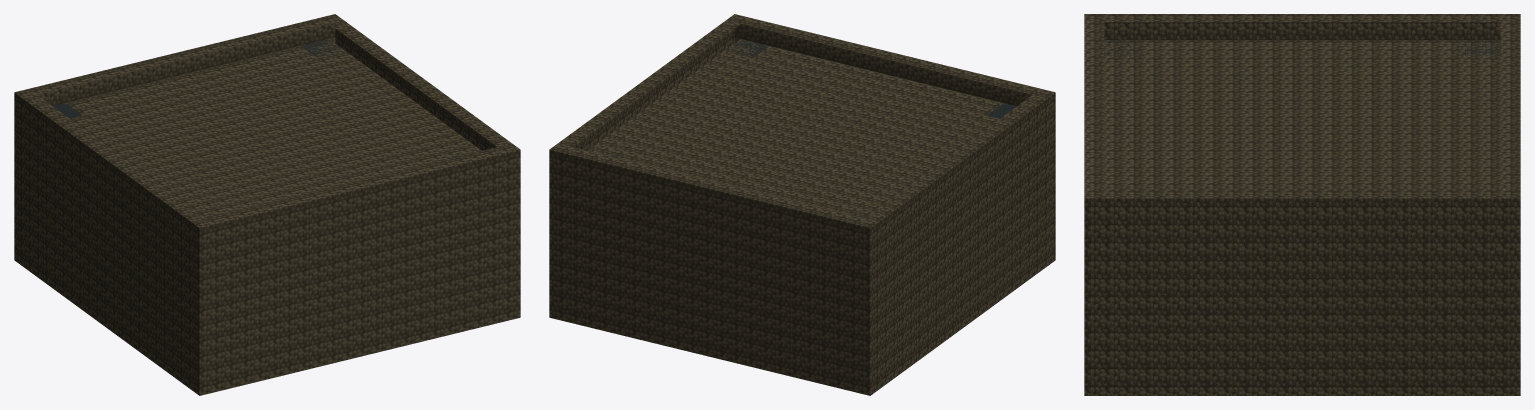
File: WaitingRoom.glb
3 views of the same model, side by side, from view 1: azimuth 30°, elevation 25°; view 2: azimuth 150°, elevation 25°; view 3: azimuth 270°, elevation 25° (orthographic). The views are drawn at different scales.
Visible parts, largest first — view 1: DebugLevel; view 2: DebugLevel; view 3: DebugLevel.
Boxes of the visible parts, x1,y1,x2,y2 form: DebugLevel: [14, 14, 520, 395]; DebugLevel: [549, 14, 1055, 395]; DebugLevel: [1084, 14, 1520, 395].
Size of the model in its own units: 22 by 11 by 22.
Materials: 4 (4 with a texture image).
